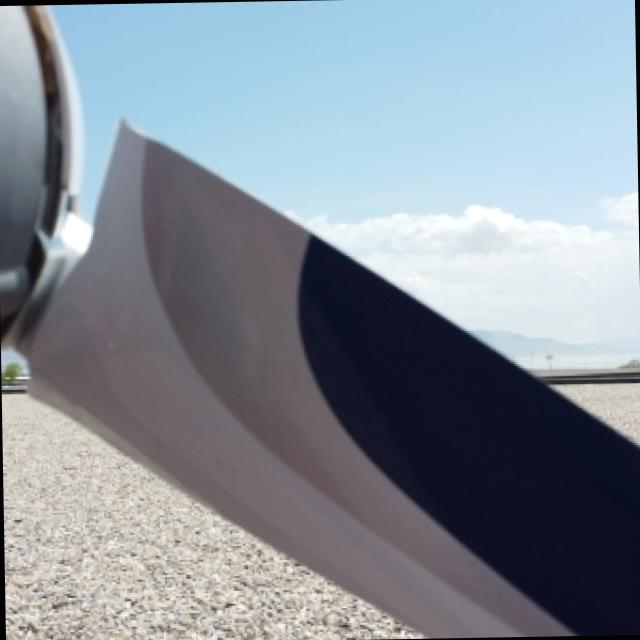healthy: (28, 137, 564, 635)
